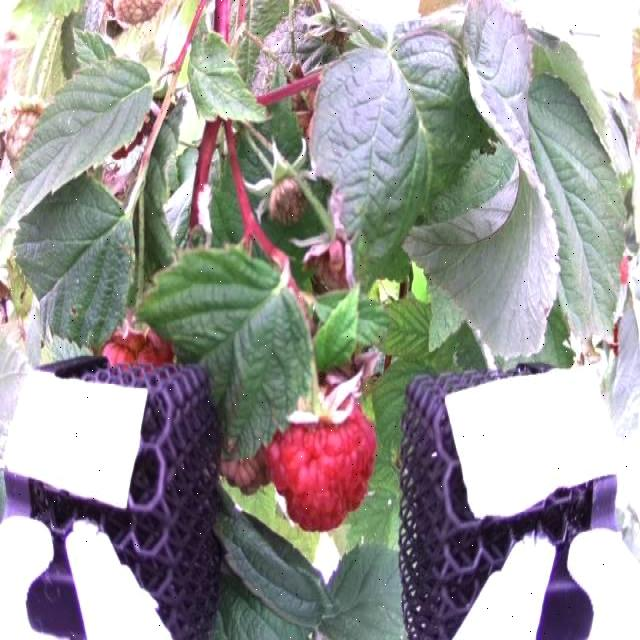Riped berries: (264, 384, 379, 533), (107, 312, 178, 368)
